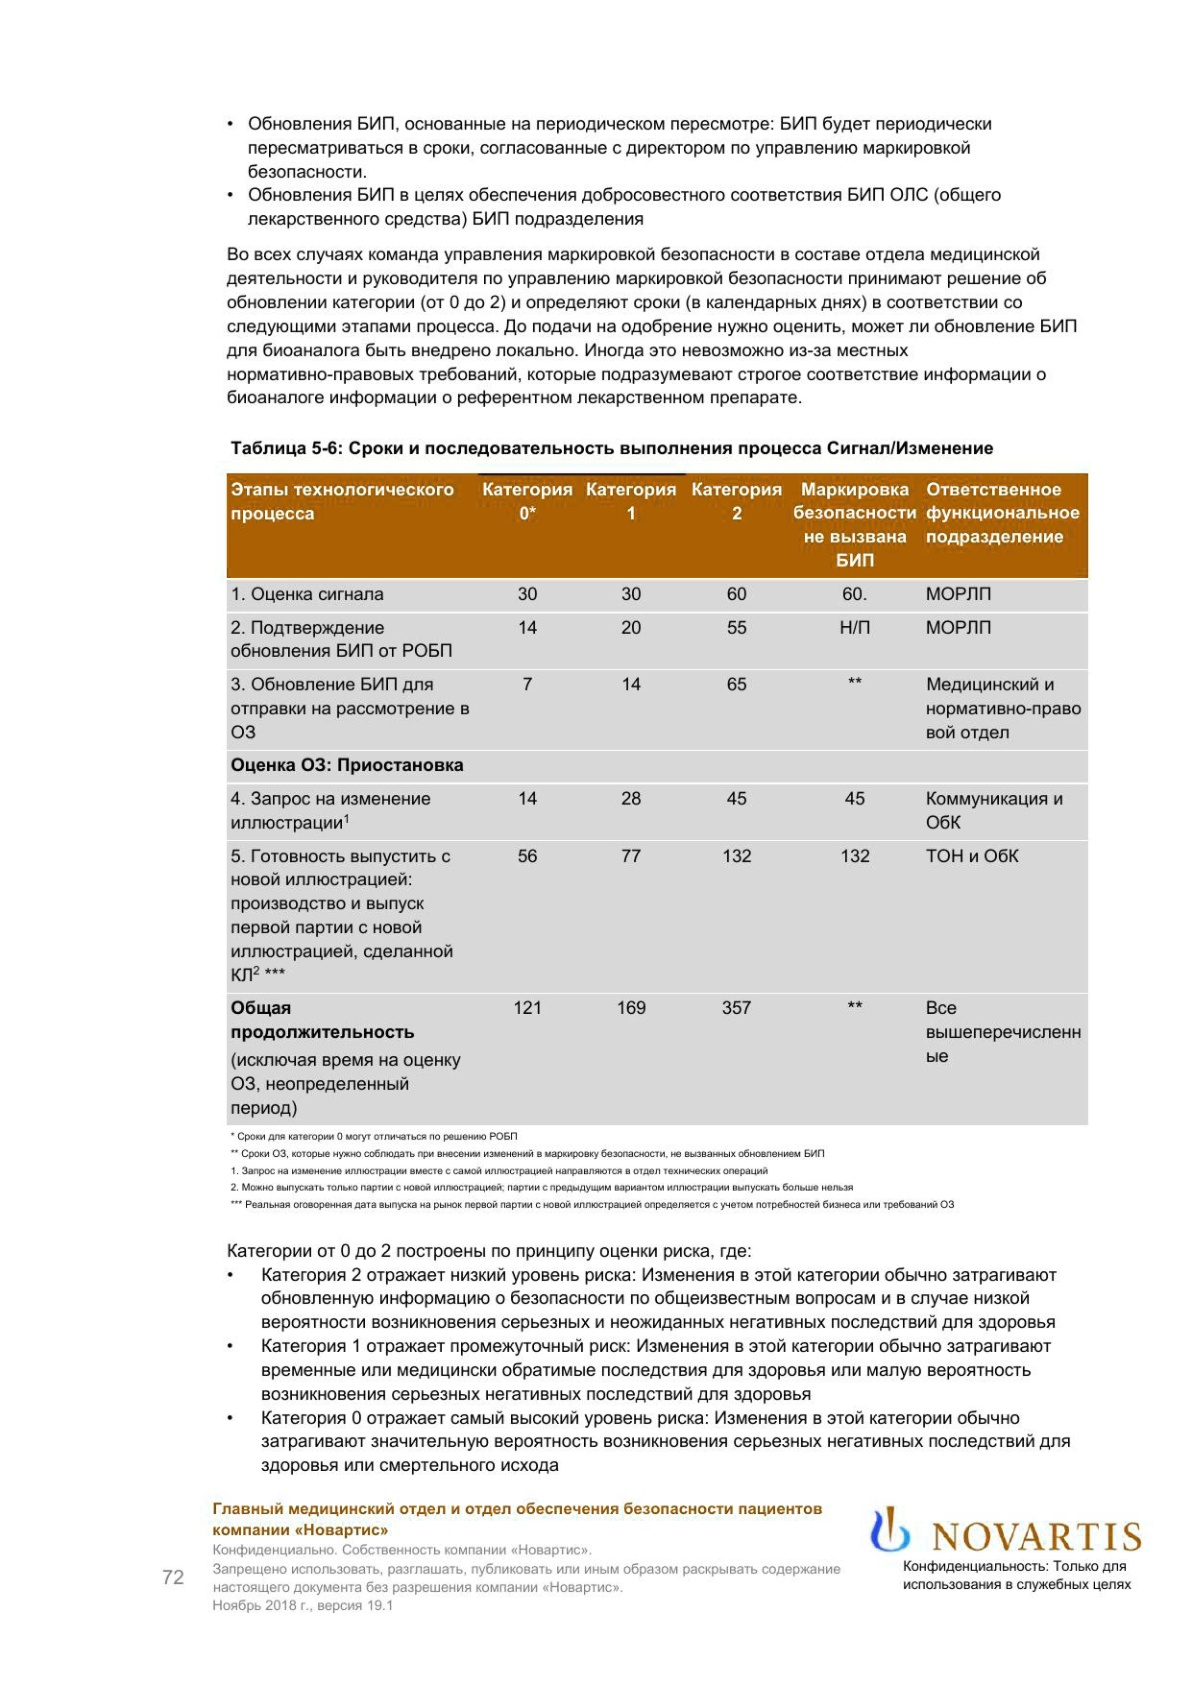partial_lined: (227, 472, 1088, 1126)
